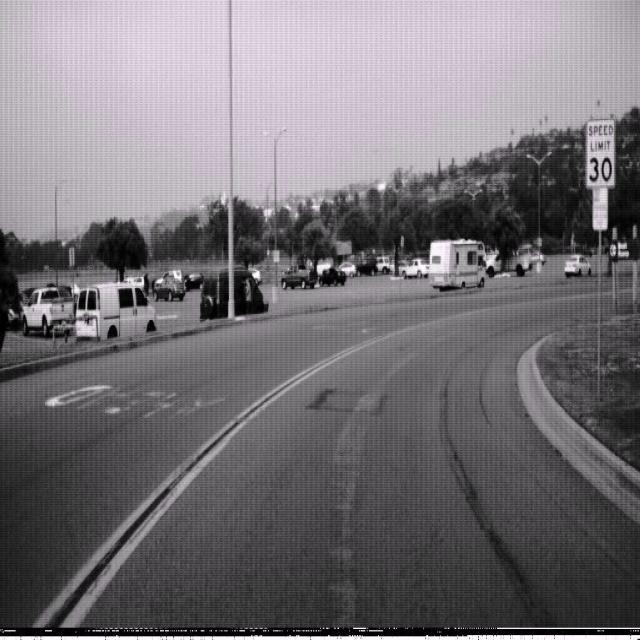speedLimit30: (584, 116, 616, 189)
